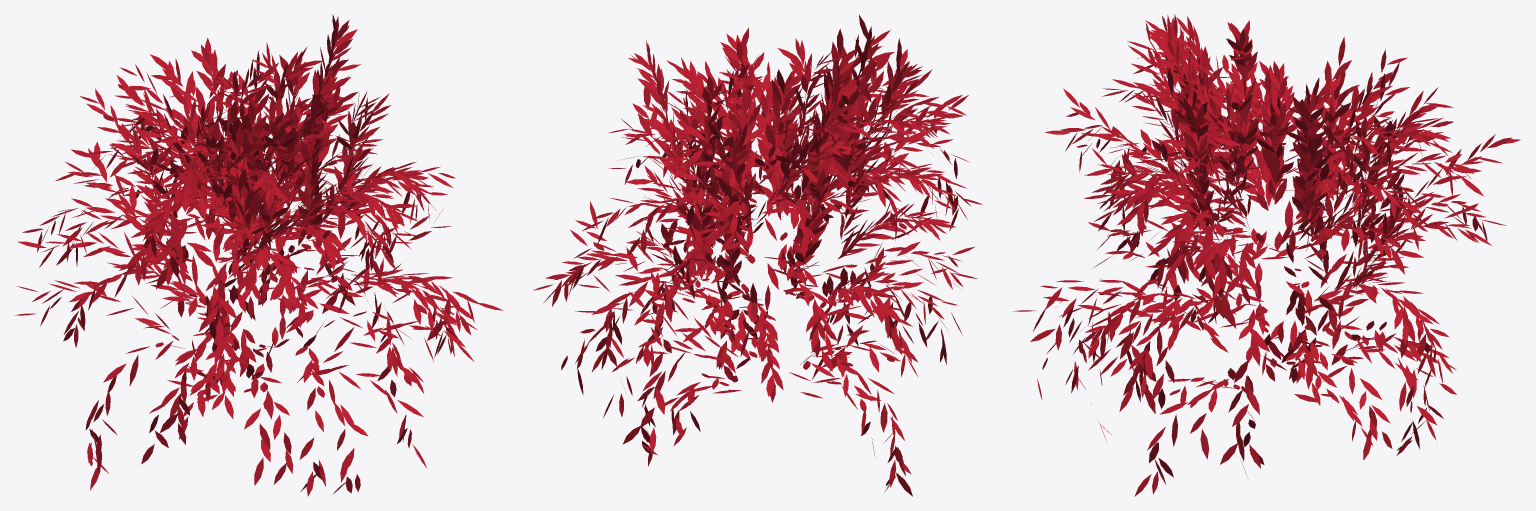
File: tree-dead-leaves-misc-003-038.glb
The picture shows the model from 3 angles, left to right: view 1: azimuth 30°, elevation 25°; view 2: azimuth 150°, elevation 25°; view 3: azimuth 270°, elevation 25°; orthographic projection. The views are drawn at different scales.
Parts seen in each view (by area): view 1: leaves.003_493; view 2: leaves.003_493; view 3: leaves.003_493.
Boxes of the visible parts, x1,y1,x2,y2 form: leaves.003_493: [14, 14, 503, 496]; leaves.003_493: [533, 15, 982, 496]; leaves.003_493: [1013, 14, 1520, 496].
Size of the model in its own units: 1.58 by 1.67 by 1.82.
